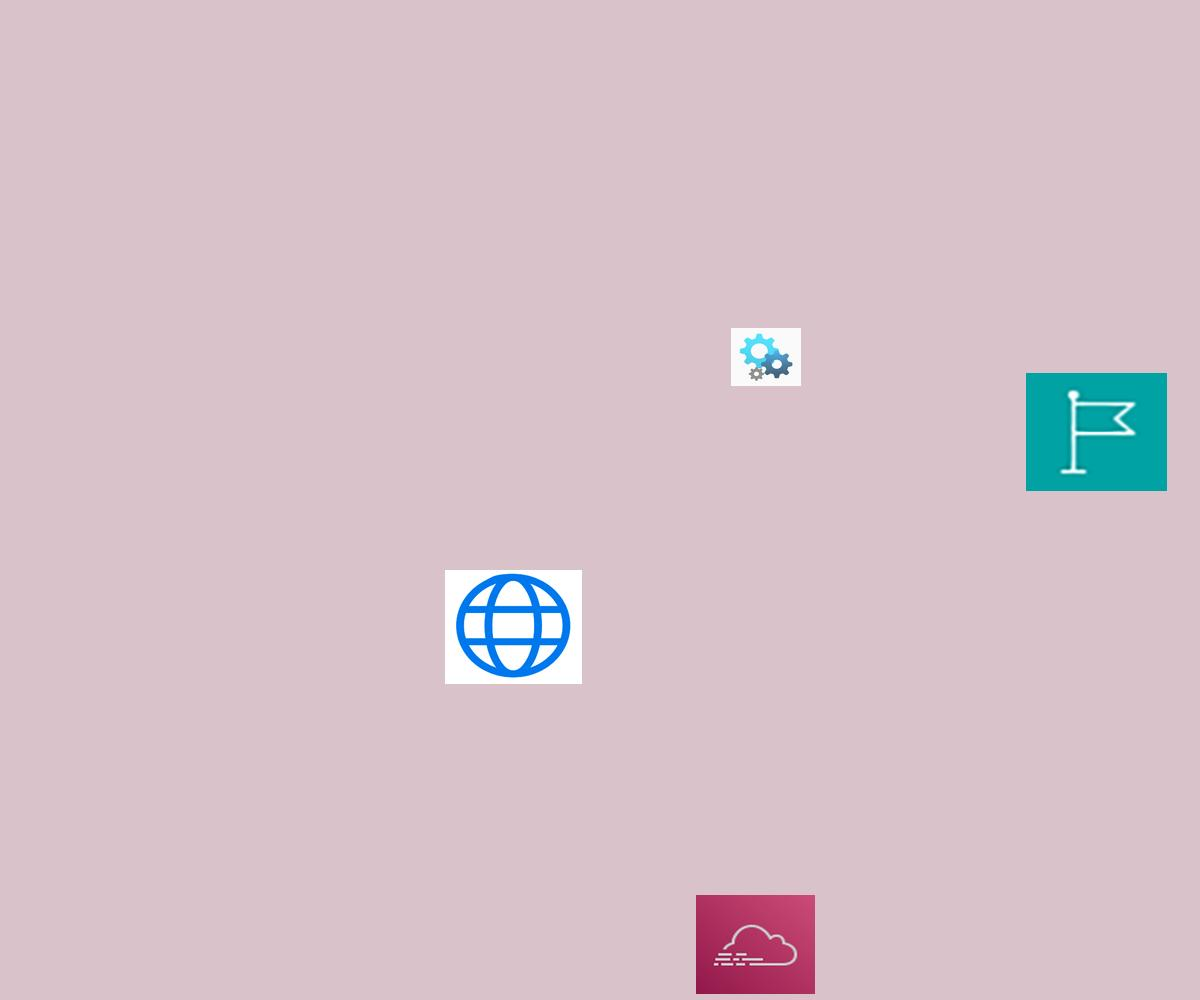AWS-CloudTrail: (696, 895, 815, 994)
AWS-Region: (1026, 373, 1167, 491)
Azure_api: (731, 328, 801, 386)
Azure_http: (445, 570, 582, 684)
